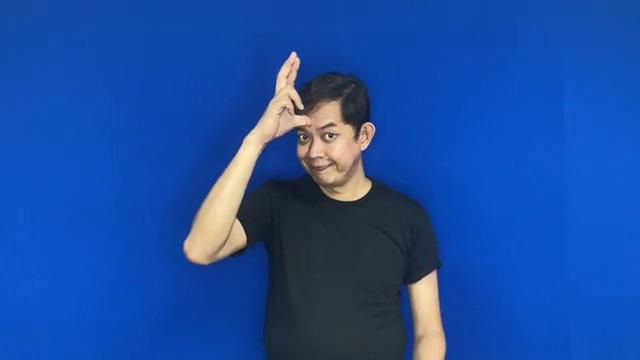chicken: (260, 44, 321, 149)
